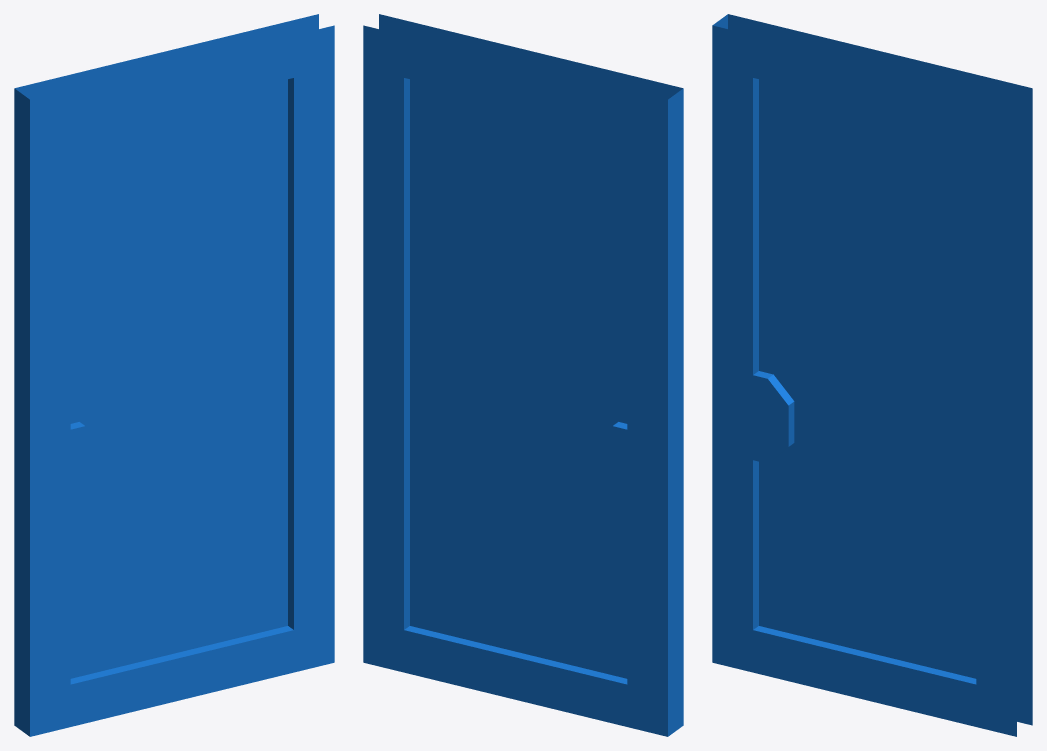
Rendered from Door_left.fbx.
The picture shows the model from 3 angles, left to right: view 1: azimuth 30°, elevation 25°; view 2: azimuth 150°, elevation 25°; view 3: azimuth 330°, elevation 25°; orthographic projection.
Parts seen in each view (by area): view 1: Door_Left; view 2: Door_Left; view 3: Door_Left.
Boxes of the visible parts, x1,y1,x2,y2 form: Door_Left: (14,14,334,736); Door_Left: (363,14,683,736); Door_Left: (712,14,1032,736).
Bounding box in the file's own units: 150 × 300 × 13.33.
